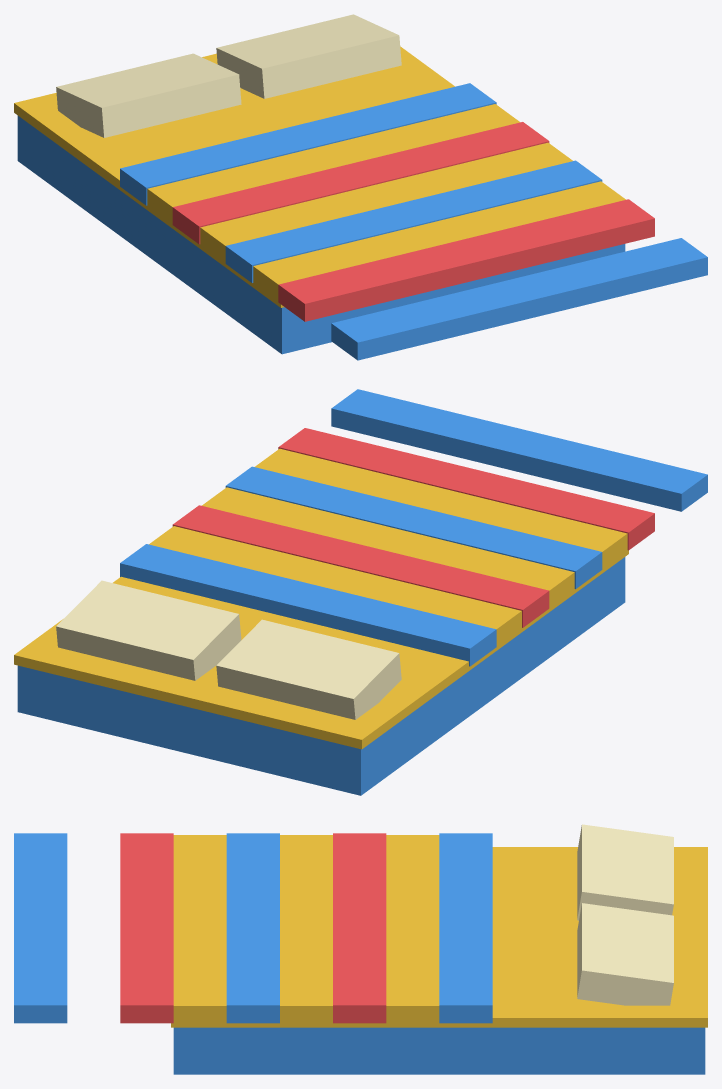
Rendered from mattress_fun_0.glb.
The picture shows the model from 3 angles, top to bottom: view 1: azimuth 30°, elevation 25°; view 2: azimuth 150°, elevation 25°; view 3: azimuth 270°, elevation 25°; orthographic projection.
Bounding box in the file's own units: 1.53 × 0.3855 × 2.61.
